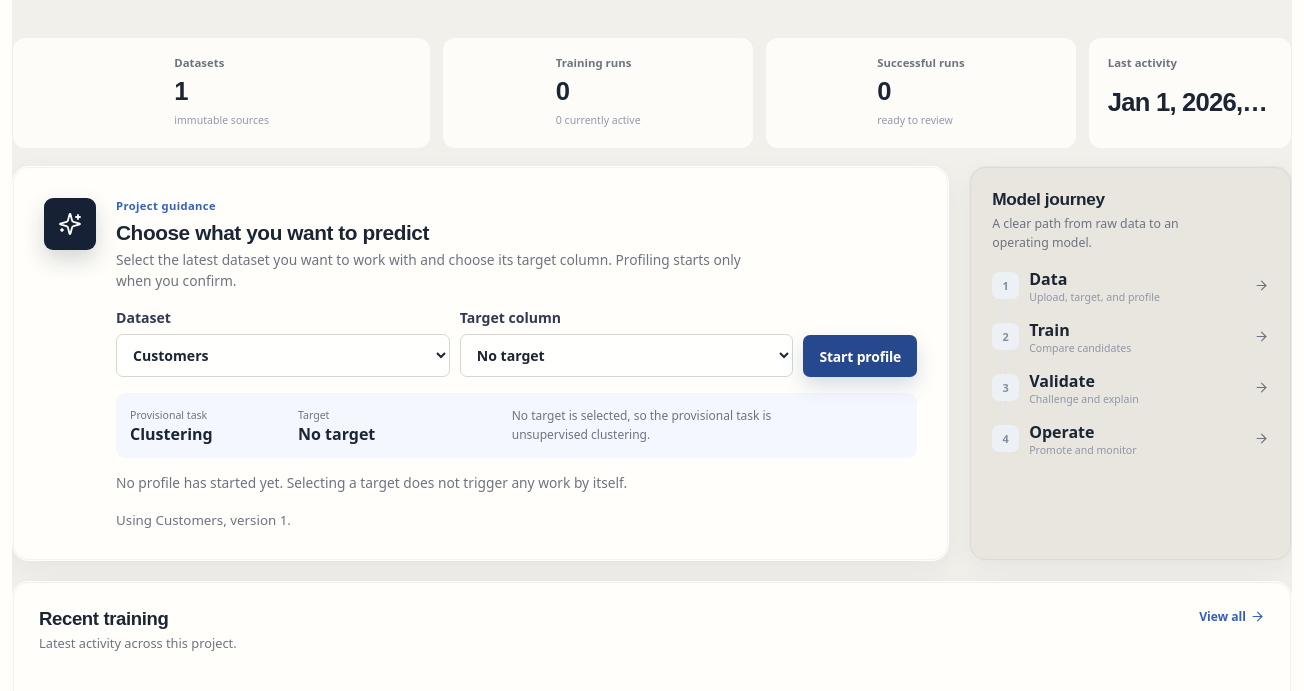
Test case: core workflow integrations › profiles only on request and shows regression target guidance
Expected: the heading "Choose what you want to predict" is shown, left=116, top=220, right=429, bottom=244
Select "revenue" in the dropdown labelled "Target column". click: (627, 356)
box: left=460, top=334, right=793, bottom=377
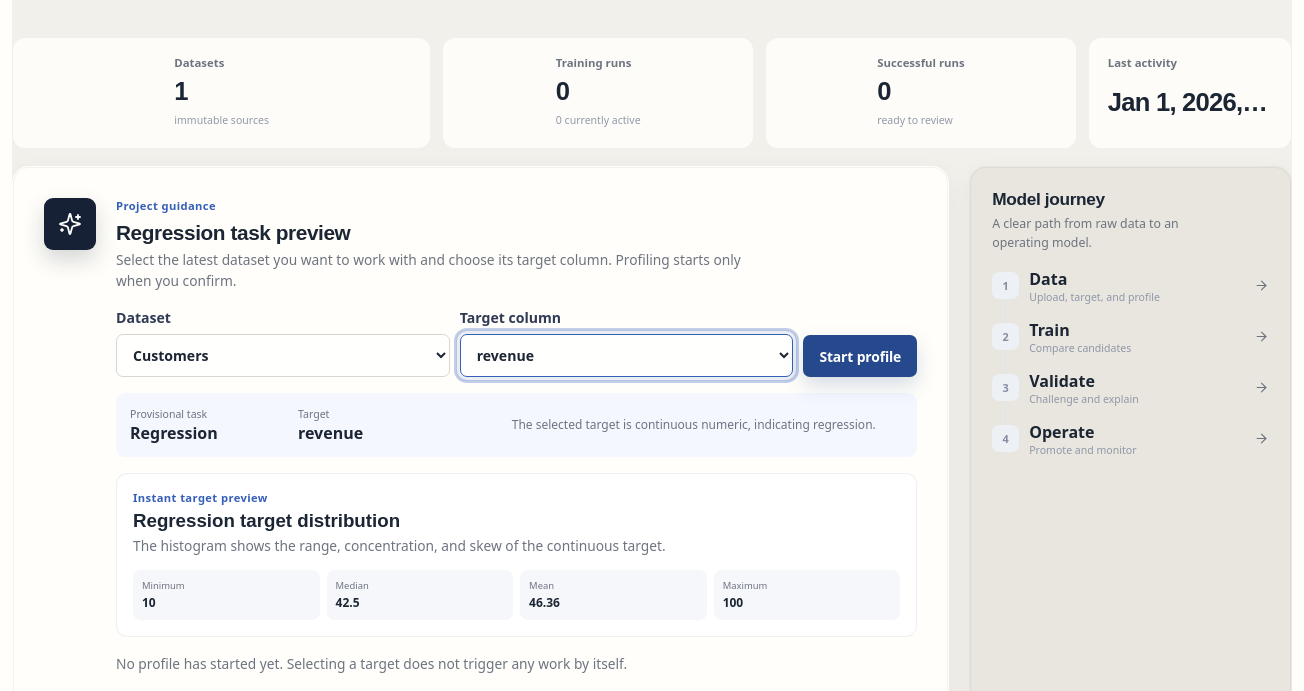
Now the heading "Regression task preview" is shown, box left=116, top=220, right=350, bottom=244
Now the text "Instant target preview" is shown, box left=133, top=490, right=268, bottom=505
Now the heading "Regression target distribution" is shown, box left=133, top=510, right=400, bottom=531
Click the button "Start profile". click: click(860, 356)
box: left=803, top=335, right=917, bottom=377
(page scrolled)
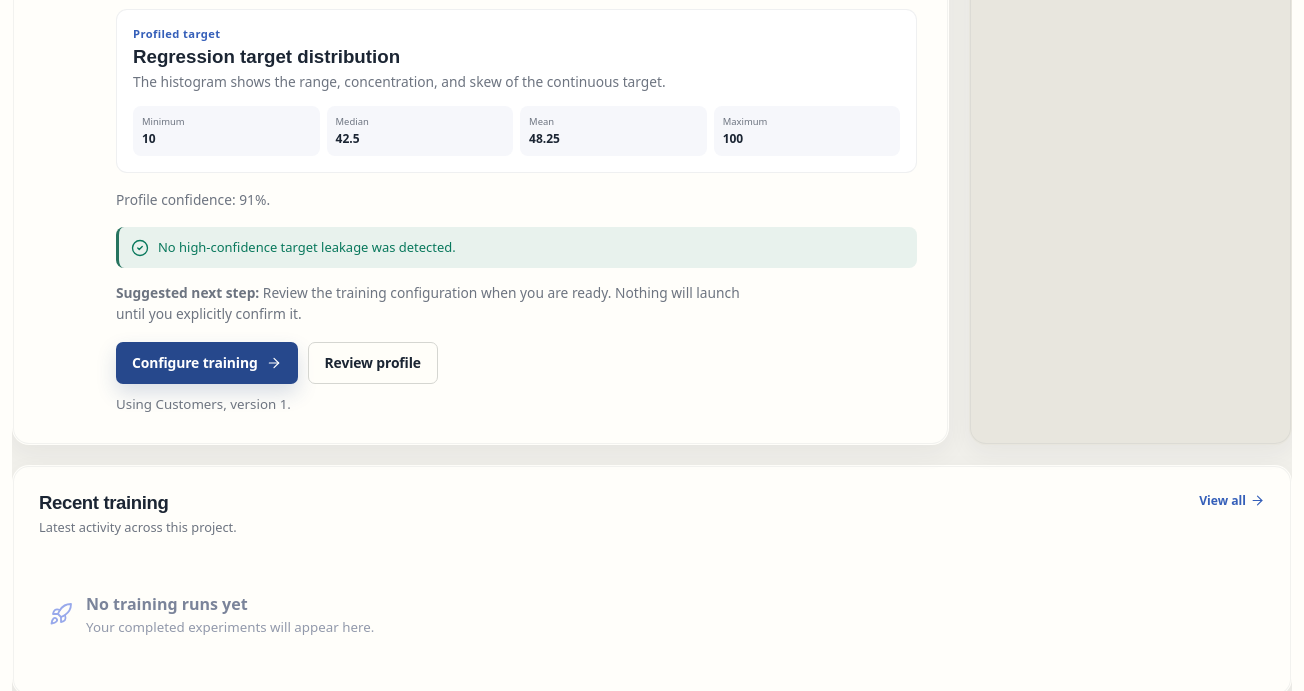
Now the heading "Regression target distribution" is shown, box left=133, top=46, right=400, bottom=67
Now the text "42.5" is shown, box left=336, top=130, right=360, bottom=146
Now the text "Profile confidence: 91%." is shown, box left=116, top=190, right=270, bottom=208
